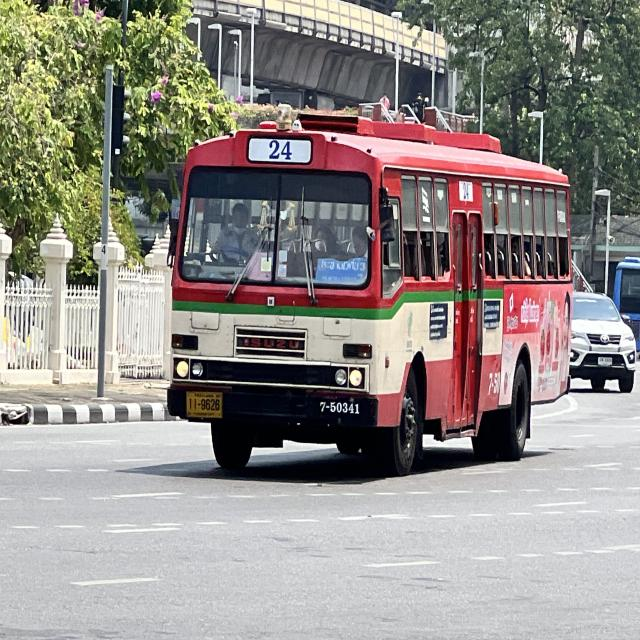BMTA-bus: (166, 113, 573, 477)
Bus-Line-Number: (245, 131, 314, 168)
Destination-Sign-Normal: (316, 256, 369, 285)
